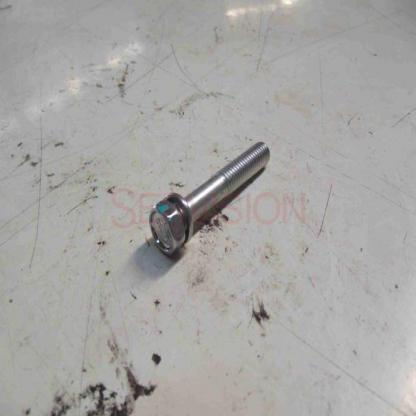FOD: (148, 138, 272, 258)
